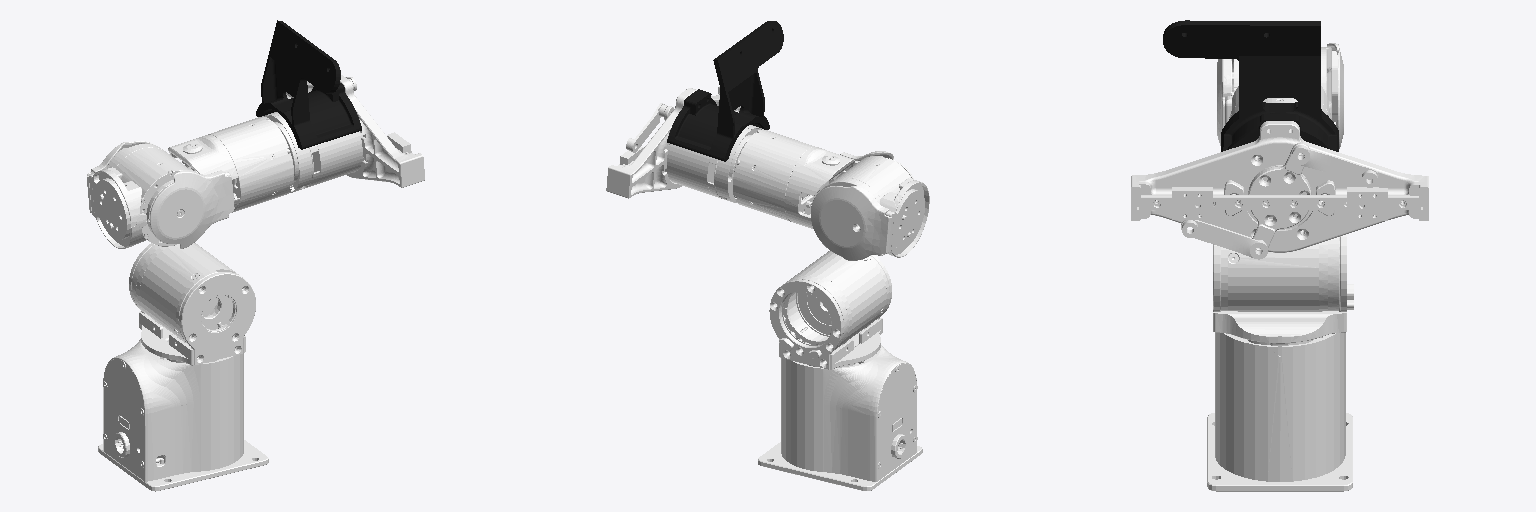
The robot description file, URDF, robot "piper_l_camera":
<?xml version="1.0" ?>
<!-- =================================================================================== -->
<!-- |    This document was autogenerated by xacro from piper_h_description.xacro      | -->
<!-- |    EDITING THIS FILE BY HAND IS NOT RECOMMENDED                                 | -->
<!-- =================================================================================== -->
<!-- This URDF was automatically created by SolidWorks to URDF Exporter! Originally created by Stephen Brawner (brawner@gmail.com) 
     Commit Version: 1.6.0-4-g7f85cfe  Build Version: 1.6.7995.38578
     For more information, please see http://wiki.ros.org/sw_urdf_exporter -->
<robot name="piper_l_camera">
  <material name="aluminum">
    <color rgba="0.5 0.5 0.5 1"/>
  </material>
  <material name="plastic">
    <color rgba="0.1 0.1 0.1 1"/>
  </material>
  <link name="d435_camera_link"/>
  <!-- camera body, with origin at bottom screw mount -->
  <joint name="camera_joint" type="fixed">
    <origin rpy="0 0 0" xyz="0 0 0"/>
    <parent link="d435_camera_link"/>
    <child link="camera_bottom_screw_frame"/>
  </joint>
  <link name="camera_bottom_screw_frame"/>
  <joint name="camera_link_joint" type="fixed">
    <origin rpy="0 0 0" xyz="0.010600000000000002 0.0175 0.0125"/>
    <parent link="camera_bottom_screw_frame"/>
    <child link="camera_link"/>
  </joint>
  <link name="camera_link">
    <visual>
      <!-- the mesh origin is at front plate in between the two infrared camera axes -->
      <origin rpy="1.5707963267948966 0 1.5707963267948966" xyz="0.0043 -0.0175 0"/>
      <geometry>
        <mesh filename="file:///home/agilex/piper_ws/install/realsense2_description/share/realsense2_description/meshes/d435.dae"/>
      </geometry>
    </visual>
    <collision>
      <origin rpy="0 0 0" xyz="0 -0.0175 0"/>
      <geometry>
        <box size="0.02505 0.09 0.025"/>
      </geometry>
    </collision>
    <inertial>
      <!-- The following are not reliable values, and should not be used for modeling -->
      <mass value="0.072"/>
      <origin xyz="0 0 0"/>
      <inertia ixx="0.003881243" ixy="0.0" ixz="0.0" iyy="0.000498940" iyz="0.0" izz="0.003879257"/>
    </inertial>
  </link>
  <!-- <xacro:if value="${add_plug}">
      <xacro:usb_plug parent="${name}_link" name="${name}_usb_plug">
        <origin xyz="${d435_cam_mount_from_center_offset - 0.02095} ${-d435_cam_depth_py - 0.0353} 0" rpy="0 0 0"/>
      </xacro:usb_plug>
    </xacro:if> -->
  <link name="base_link">
    <inertial>
      <origin rpy="0 0 0" xyz="-0.00347 -0.00012 0.04283"/>
      <mass value="1.07"/>
      <inertia ixx="0.00099887" ixy="0.00000194" ixz="0.00000613" iyy="0.00112771" iyz="0.00000201" izz="0.00096552"/>
    </inertial>
    <visual>
      <origin rpy="0 0 0" xyz="0 0 0"/>
      <geometry>
        <mesh filename="package://piper_h_description/meshes/dae/base_link.dae"/>
      </geometry>
      <material name="">
        <color rgba="1 1 1 1"/>
      </material>
    </visual>
    <collision>
      <origin rpy="0 0 0" xyz="0 0 0"/>
      <geometry>
        <mesh filename="package://piper_h_description/meshes/dae/base_link.dae"/>
      </geometry>
    </collision>
  </link>
  <link name="link1">
    <inertial>
      <origin rpy="0 0 0" xyz="0.00038 -0.00039 -0.00317"/>
      <mass value="0.71"/>
      <inertia ixx="0.00049803" ixy="0.00000022" ixz="0.00000810" iyy="0.00040527" iyz="0.00000116" izz="0.00045753"/>
    </inertial>
    <visual>
      <origin rpy="0 0 0" xyz="0 0 0"/>
      <geometry>
        <mesh filename="package://piper_h_description/meshes/dae/link1.dae"/>
      </geometry>
      <material name="">
        <color rgba="1 1 1 1"/>
      </material>
    </visual>
    <collision>
      <origin rpy="0 0 0" xyz="0 0 0"/>
      <geometry>
        <mesh filename="package://piper_h_description/meshes/dae/link1.dae"/>
      </geometry>
    </collision>
  </link>
  <joint name="joint1" type="revolute">
    <origin rpy="0 0 0" xyz="0 0 0.123"/>
    <parent link="base_link"/>
    <child link="link1"/>
    <axis xyz="0 0 1"/>
    <limit effort="100" lower="-2.618" upper="2.618" velocity="3"/>
  </joint>
  <link name="link2">
    <inertial>
      <origin rpy="0 0 0" xyz="0.21849 -0.00875 0.00126"/>
      <mass value="1.16"/>
      <inertia ixx="0.00103112" ixy="0.00035994" ixz="0.00012698" iyy="0.01204356" iyz="0.00000492" izz="0.01188565"/>
    </inertial>
    <visual>
      <origin rpy="0 0 0" xyz="0 0 0"/>
      <geometry>
        <mesh filename="package://piper_h_description/meshes/dae/link2.dae"/>
      </geometry>
      <material name="">
        <color rgba="1 1 1 1"/>
      </material>
    </visual>
    <collision>
      <origin rpy="0 0 0" xyz="0 0 0"/>
      <geometry>
        <mesh filename="package://piper_h_description/meshes/dae/link2.dae"/>
      </geometry>
    </collision>
  </link>
  <joint name="joint2" type="revolute">
    <origin rpy="1.5708 -0.13674 3.1416" xyz="0 0 0"/>
    <parent link="link1"/>
    <child link="link2"/>
    <axis xyz="0 0 1"/>
    <limit effort="100" lower="0" upper="3.14" velocity="3"/>
  </joint>
  <link name="link3">
    <inertial>
      <origin rpy="0 0 0" xyz="-0.00778 -0.14512 -0.00047"/>
      <mass value="0.55"/>
      <inertia ixx="0.00285399" ixy="0.00008683" ixz="0.00000260" iyy="0.00025517" iyz="0.00004073" izz="0.00280819"/>
    </inertial>
    <visual>
      <origin rpy="0 0 0" xyz="0 0 0"/>
      <geometry>
        <mesh filename="package://piper_h_description/meshes/dae/link3.dae"/>
      </geometry>
      <material name="">
        <color rgba="1 1 1 1"/>
      </material>
    </visual>
    <collision>
      <origin rpy="0 0 0" xyz="0 0 0"/>
      <geometry>
        <mesh filename="package://piper_h_description/meshes/dae/link3.dae"/>
      </geometry>
    </collision>
  </link>
  <joint name="joint3" type="revolute">
    <origin rpy="0 0 -1.8796" xyz="0.28508 0 0"/>
    <parent link="link2"/>
    <child link="link3"/>
    <axis xyz="0 0 1"/>
    <limit effort="100" lower="-2.697" upper="0" velocity="3"/>
  </joint>
  <link name="link4">
    <inertial>
      <origin rpy="0 0 0" xyz="0.00051 -0.00091 -0.00395"/>
      <mass value="0.36"/>
      <inertia ixx="0.00018477" ixy="0.00000115" ixz="0.00000323" iyy="0.00016906" iyz="0.00000674" izz="0.00015871"/>
    </inertial>
    <visual>
      <origin rpy="0 0 0" xyz="0 0 0"/>
      <geometry>
        <mesh filename="package://piper_h_description/meshes/dae/link4.dae"/>
      </geometry>
      <material name="">
        <color rgba="1 1 1 1"/>
      </material>
    </visual>
    <collision>
      <origin rpy="0 0 0" xyz="0 0 0"/>
      <geometry>
        <mesh filename="package://piper_h_description/meshes/dae/link4.dae"/>
      </geometry>
    </collision>
  </link>
  <joint name="joint4" type="revolute">
    <origin rpy="1.5708 0 0.17203" xyz="0 -0.25666 0"/>
    <parent link="link3"/>
    <child link="link4"/>
    <axis xyz="0 0 1"/>
    <limit effort="100" lower="-1.832" upper="1.832" velocity="3"/>
  </joint>
  <link name="link5">
    <inertial>
      <origin rpy="0 0 0" xyz="0.00015 -0.06349 -0.00253"/>
      <mass value="0.38"/>
      <inertia ixx="0.00030399" ixy="0.00000167" ixz="0.00000011" iyy="0.00016834" iyz="0.00004817" izz="0.00029057"/>
    </inertial>
    <visual>
      <origin rpy="0 0 0" xyz="0 0 0"/>
      <geometry>
        <mesh filename="package://piper_h_description/meshes/dae/link5.dae"/>
      </geometry>
      <material name="">
        <color rgba="1 1 1 1"/>
      </material>
    </visual>
    <collision>
      <origin rpy="0 0 0" xyz="0 0 0"/>
      <geometry>
        <mesh filename="package://piper_h_description/meshes/dae/link5.dae"/>
      </geometry>
    </collision>
  </link>
  <joint name="joint5" type="revolute">
    <origin rpy="-1.5708 -0.087272 0" xyz="0 0 0"/>
    <parent link="link4"/>
    <child link="link5"/>
    <axis xyz="0 0 1"/>
    <limit effort="100" lower="-1.22" upper="1.22" velocity="3"/>
  </joint>
  <link name="link6">
    <inertial>
      <origin rpy="0 0 0" xyz="0 0 -0.00351"/>
      <mass value="0.01"/>
      <inertia ixx="0.00000064" ixy="0" ixz="0" iyy="0.00000064" iyz="0" izz="0.00000106"/>
    </inertial>
    <visual>
      <origin rpy="-1.57 0 1.57" xyz="0.008 -0.002 0.064"/>
      <geometry>
        <mesh filename="package://piper_h_description/meshes/dae/gripper_base_100_v3.dae"/>
      </geometry>
      <material name="">
        <color rgba="1 1 1 1"/>
      </material>
    </visual>
    <collision>
      <origin rpy="-1.57 0 1.57" xyz="0.008 -0.002 0.064"/>
      <geometry>
        <mesh filename="package://piper_h_description/meshes/dae/gripper_base_100_v3.dae"/>
      </geometry>
    </collision>
  </link>
  <joint name="joint6" type="revolute">
    <origin rpy="1.5708 0 0.0" xyz="0 -0.1 0"/>
    <parent link="link5"/>
    <child link="link6"/>
    <axis xyz="0 0 1"/>
    <limit effort="100" lower="-3.14" upper="3.14" velocity="3"/>
  </joint>
  <link name="link7">
    <visual>
      <inertial>
        <origin rpy="0 0 0" xyz="0.000277816920932317 0.0467673824063769 -0.00921030054508036"/>
        <mass value="0.0264822021416248"/>
        <inertia ixx="9.99779119357223E-06" ixy="-1.57542283433504E-07" ixz="2.71367446701359E-08" iyy="6.17952441557932E-06" iyz="1.58939319453383E-06" izz="1.4210192754512E-05"/>
      </inertial>
      <geometry>
        <mesh filename="package://piper_h_description/meshes/dae/link7.dae"/>
      </geometry>
      <material name="LightGrey">
        <color rgba="0.7 0.7 0.7 1.0"/>
      </material>
    </visual>
    <collision>
      <geometry>
        <mesh filename="package://piper_h_description/meshes/dae/link7.dae"/>
      </geometry>
    </collision>
  </link>
  <joint name="joint7" type="prismatic">
    <origin rpy="1.5708 0 0" xyz="0 0 0.13503"/>
    <parent link="link6"/>
    <child link="link7"/>
    <axis xyz="0 0 -1"/>
    <limit effort="100" lower="0" upper="0.05" velocity="1"/>
  </joint>
  <link name="link8">
    <inertial>
      <origin rpy="0 0 0" xyz="0.000277816920932317 0.0467673824063769 -0.00921030054508036"/>
      <mass value="0.0264822021416248"/>
      <inertia ixx="9.99779119357223E-06" ixy="-1.57542283433504E-07" ixz="2.71367446701359E-08" iyy="6.17952441557932E-06" iyz="1.58939319453383E-06" izz="1.4210192754512E-05"/>
    </inertial>
    <visual>
      <origin rpy="0 0 0" xyz="0 0 0"/>
      <geometry>
        <mesh filename="package://piper_h_description/meshes/dae/link8.dae"/>
      </geometry>
      <material name="">
        <color rgba="0.792156862745098 0.819607843137255 0.933333333333333 1"/>
      </material>
    </visual>
    <collision>
      <origin rpy="0 0 0" xyz="0 0 0"/>
      <geometry>
        <mesh filename="package://piper_h_description/meshes/dae/link8.dae"/>
      </geometry>
    </collision>
  </link>
  <joint name="joint8" type="prismatic">
    <origin rpy="-1.5708 0 0" xyz="0 0 0.13503"/>
    <parent link="link6"/>
    <child link="link8"/>
    <axis xyz="0 0 1"/>
    <limit effort="100" lower="-0.05" upper="0" velocity="1"/>
  </joint>
  <link name="camera_stand_link">
    <inertial>
      <origin rpy="0.0 0.0 0.0" xyz="0.0 0.0 0.0"/>
      <mass value="0.0"/>
      <inertia ixx="0.0" ixy="0.0" ixz="0.0" iyy="0.0" iyz="0.0" izz="0.0"/>
    </inertial>
    <visual name="">
      <origin rpy="0.0 3.14 1.57" xyz="0.0 0.0 0.0"/>
      <geometry>
        <mesh filename="package://piper_h_description/meshes/dae/realsense_mid_stand_v2.dae"/>
      </geometry>
    </visual>
    <collision>
      <origin rpy="0.0 3.14 1.57" xyz="0.0 0.0 0.0"/>
      <geometry>
        <mesh filename="package://piper_h_description/meshes/dae/realsense_mid_stand_v2.dae"/>
      </geometry>
    </collision>
  </link>
  <joint name="camera_stand_joint" type="fixed">
    <origin rpy="0 0 0" xyz="-0.034 -0.002 0.023"/>
    <parent link="link6"/>
    <child link="camera_stand_link"/>
    <axis xyz="0.0 0.0 0.0"/>
    <limit effort="0.0" lower="0.0" upper="0.0" velocity="0.0"/>
  </joint>
  <joint name="d435_camera_joint" type="fixed">
    <origin rpy="0.0 -1.22 0" xyz="-0.032 -0.028 0.0"/>
    <parent link="camera_stand_link"/>
    <child link="d435_camera_link"/>
    <axis xyz="0.0 0.0 0.0"/>
    <limit effort="0.0" lower="0.0" upper="0.0" velocity="0.0"/>
  </joint>
</robot>

--- Facts derived from the render (not from the file) ---
The picture shows the robot from 3 angles, left to right: view 1: azimuth 30°, elevation 25°; view 2: azimuth 150°, elevation 25°; view 3: azimuth 270°, elevation 25°; orthographic projection.
Model piper_l_camera with 13 links and 12 joints (6 revolute, 2 prismatic, 4 fixed), rooted at base_link, posed every joint at zero.
Visible links, largest first — view 1: base_link, link1, link5, camera_stand_link, link6, link4; view 2: base_link, link1, link4, camera_stand_link, link5, link6; view 3: link6, base_link, camera_stand_link, link1, link4, link5.
Boxes of the visible links, x1,y1,x2,y2 form: base_link: (98, 339, 268, 491); link1: (129, 243, 255, 365); link5: (146, 116, 293, 248); camera_stand_link: (256, 20, 361, 149); link6: (264, 75, 424, 192); link4: (87, 141, 189, 248); base_link: (758, 345, 922, 490); link1: (769, 251, 891, 369); link4: (811, 156, 929, 260); camera_stand_link: (667, 21, 783, 161); link5: (733, 129, 913, 228); link6: (606, 86, 761, 202); link6: (1131, 121, 1428, 259); base_link: (1207, 333, 1352, 491); camera_stand_link: (1163, 20, 1338, 151); link1: (1213, 234, 1353, 345); link4: (1232, 43, 1343, 148); link5: (1217, 59, 1331, 145).
Size in the robot's own frame: 0.2102 by 0.164 by 0.3048 metres.
6 mesh visuals loaded from 10 distinct referenced files (6 Collada DAE); not drawn: 4 (reference not matched to a file when rendering), 1 (reference in a form the renderer does not follow; not among the files counted above).
